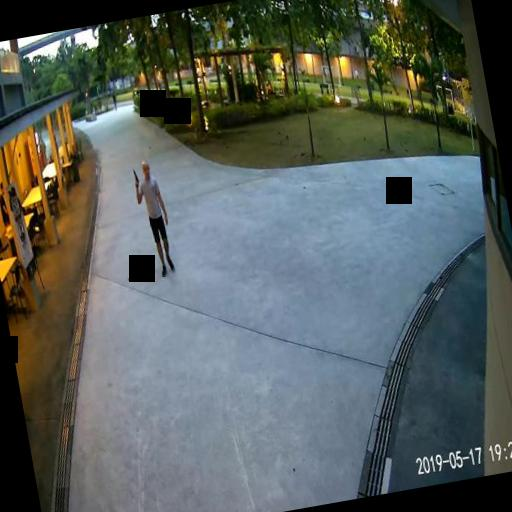Handgun: (130, 166, 140, 188)
